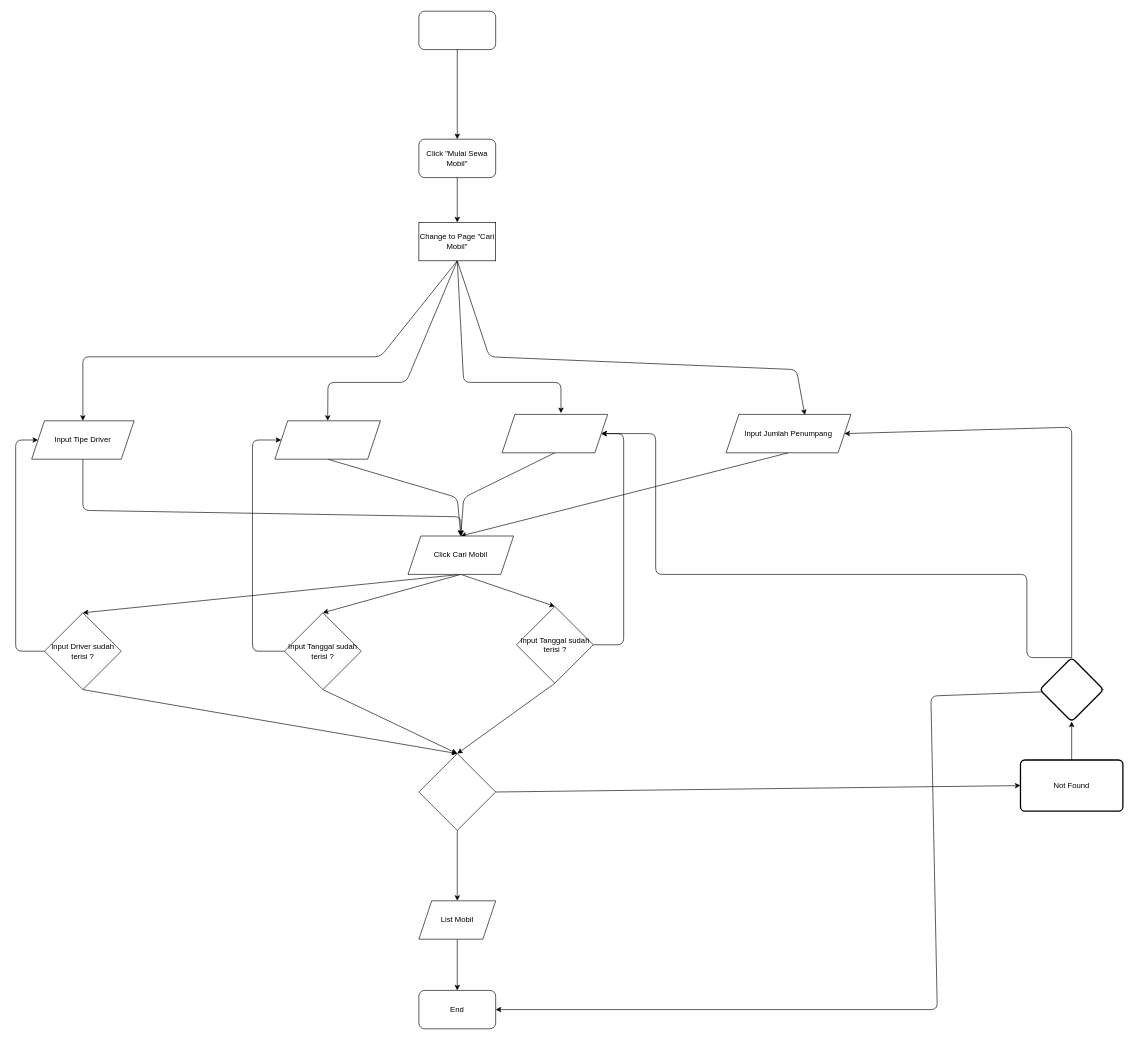
The diagram is 1135 pixels wide and 1040 high, and some of its shapes have lost their labels. Each missing label, with the box of its shape:
Apakah Mencari lagi?: (1039, 657, 1104, 722)
Data ditemukan ?: (418, 753, 496, 830)
Input Tanggal: (274, 420, 380, 459)
Input Waktu Jemput Mobil: (501, 414, 608, 453)
Start: (418, 11, 496, 50)
